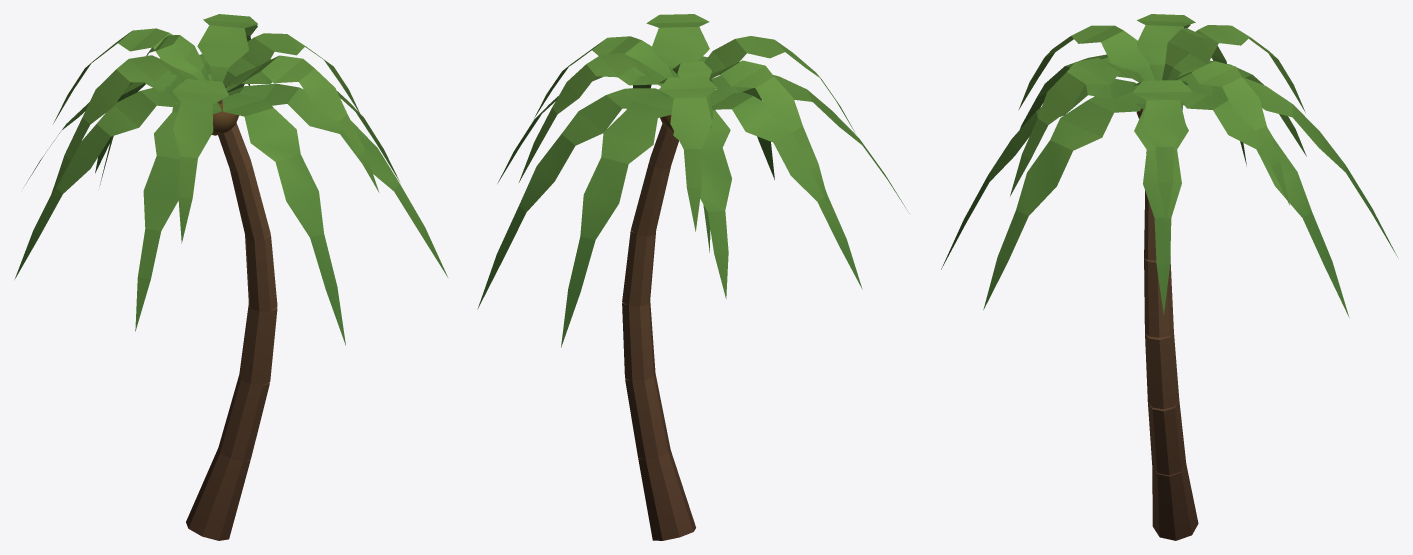
Rendered from palm-0.glb.
3 renders of one model, left to right at view 1: azimuth 30°, elevation 25°; view 2: azimuth 150°, elevation 25°; view 3: azimuth 270°, elevation 25°, orthographic. The views are drawn at different scales.
Parts seen in each view (by area): view 1: leaf, bark; view 2: leaf, bark; view 3: leaf, bark.
Boxes of the visible parts, x1,y1,x2,y2 form: leaf: (14, 14, 447, 345); bark: (186, 99, 277, 540); leaf: (477, 14, 909, 347); bark: (622, 124, 695, 540); leaf: (941, 14, 1398, 317); bark: (1144, 152, 1198, 540).
Bounding box in the file's own units: 5.61 × 7.03 × 6.
